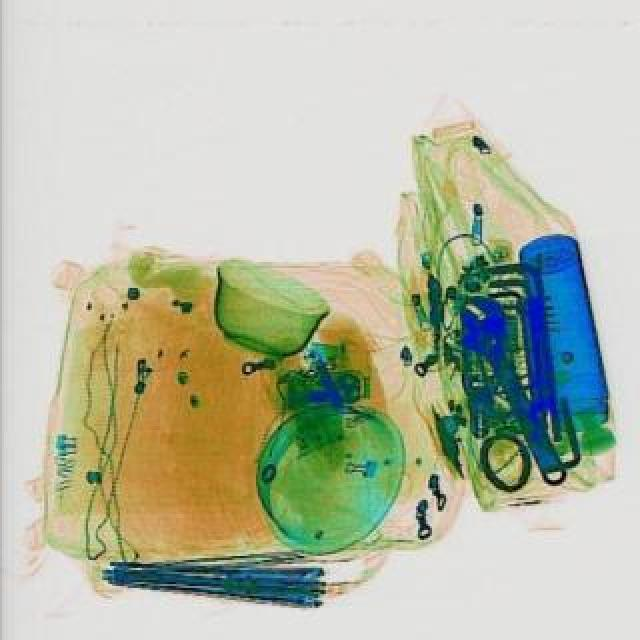scissors: (440, 284, 584, 492)
